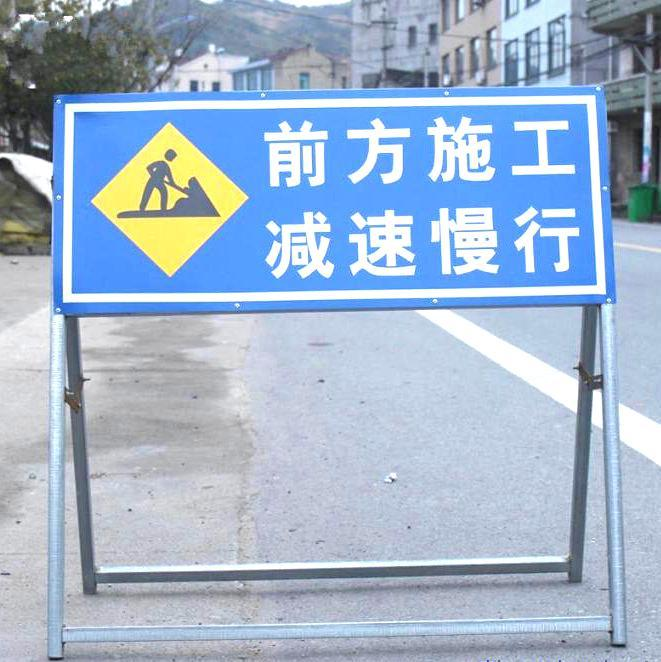sign: (53, 99, 612, 300)
